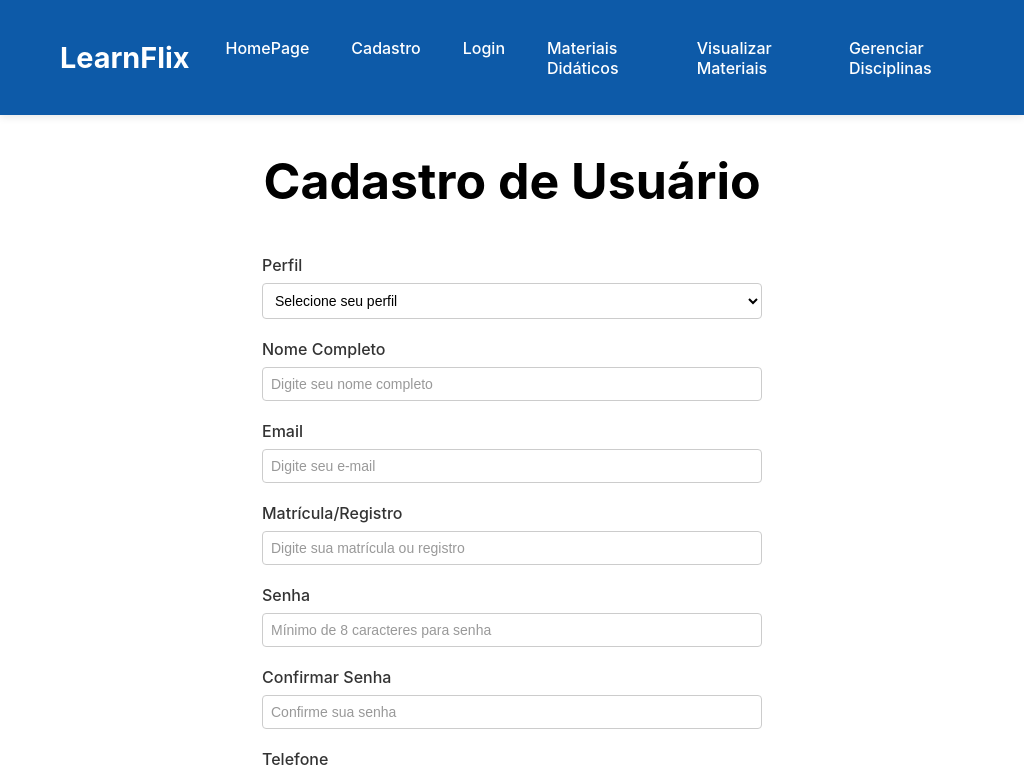
Scenario: Formulário de Cadastro › Deve exibir erro ao digitar matrícula com menos de 5 caracteres
The image size is (1024, 768).
In the field with test id "input-matricula": (512, 548) left=262, top=531, right=762, bottom=565, type "1234"
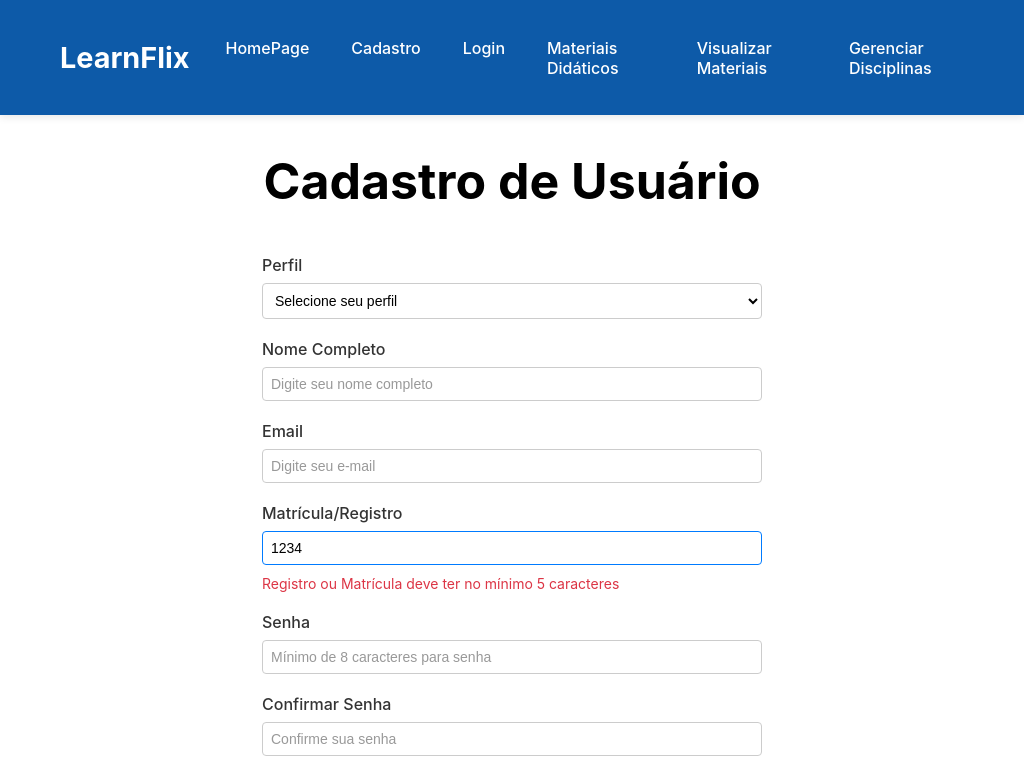
Expected: the text "Registro ou Matrícula deve ter no mínimo 5 caracteres" is shown, left=262, top=575, right=619, bottom=592
